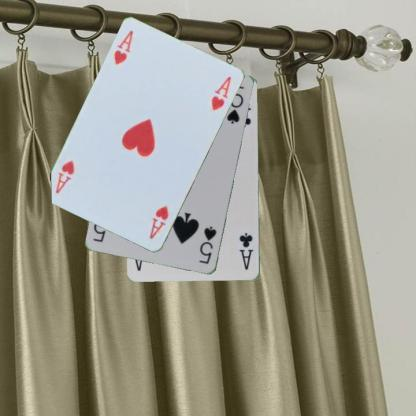5s: (196, 224, 218, 265)
Ac: (237, 230, 255, 271)
Ah: (147, 203, 170, 241), (112, 28, 134, 66)
